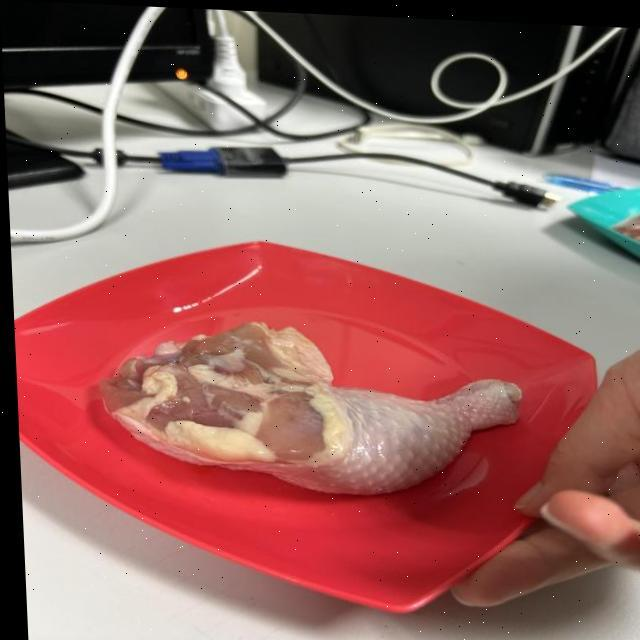quater: (102, 315, 520, 493)
